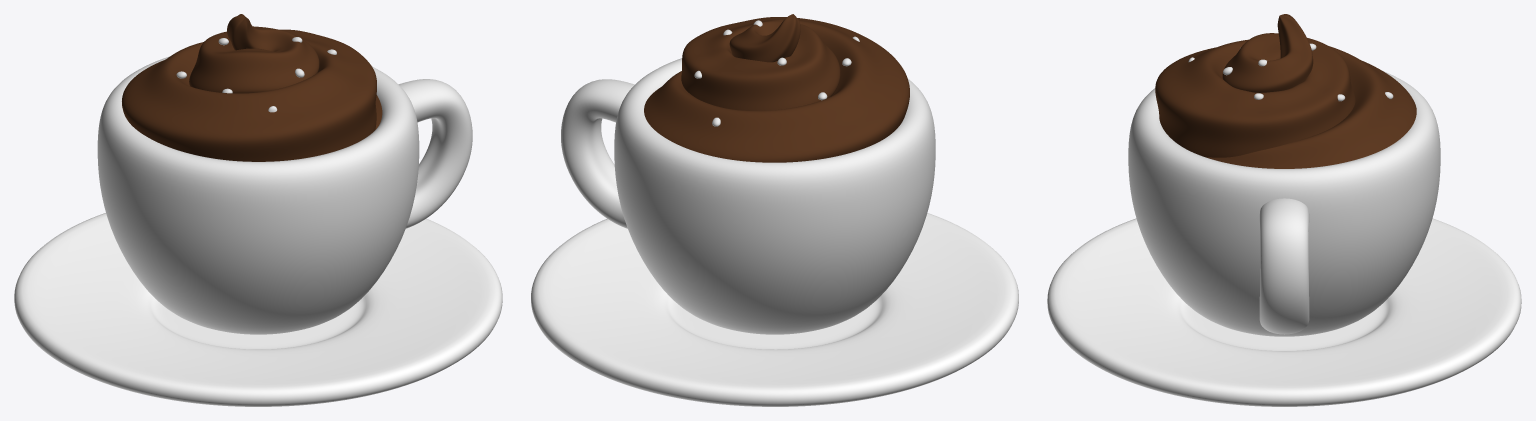
The model's file is drink2.glb.
The picture shows the model from 3 angles, left to right: view 1: azimuth 30°, elevation 25°; view 2: azimuth 150°, elevation 25°; view 3: azimuth 270°, elevation 25°; orthographic projection. The views are drawn at different scales.
Parts seen in each view (by area): view 1: Circle.083, Circle.084, Spiral.002, Cube.066; view 2: Circle.083, Circle.084, Spiral.002, Cube.066; view 3: Circle.084, Circle.083, Spiral.002, Cube.066.
Boxes of the visible parts, x1=… form: Circle.083: x1=97, y1=56, x2=419, y2=334; Circle.084: x1=14, y1=213, x2=502, y2=406; Spiral.002: x1=122, y1=14, x2=382, y2=161; Cube.066: x1=398, y1=79, x2=472, y2=228; Circle.083: x1=614, y1=58, x2=935, y2=334; Circle.084: x1=531, y1=213, x2=1018, y2=406; Spiral.002: x1=644, y1=14, x2=909, y2=162; Cube.066: x1=561, y1=79, x2=634, y2=228; Circle.084: x1=1047, y1=218, x2=1521, y2=406; Circle.083: x1=1128, y1=71, x2=1440, y2=336; Spiral.002: x1=1155, y1=14, x2=1416, y2=168; Cube.066: x1=1259, y1=198, x2=1309, y2=334.
Size of the model in its own units: 7.78 by 5.54 by 7.78.
